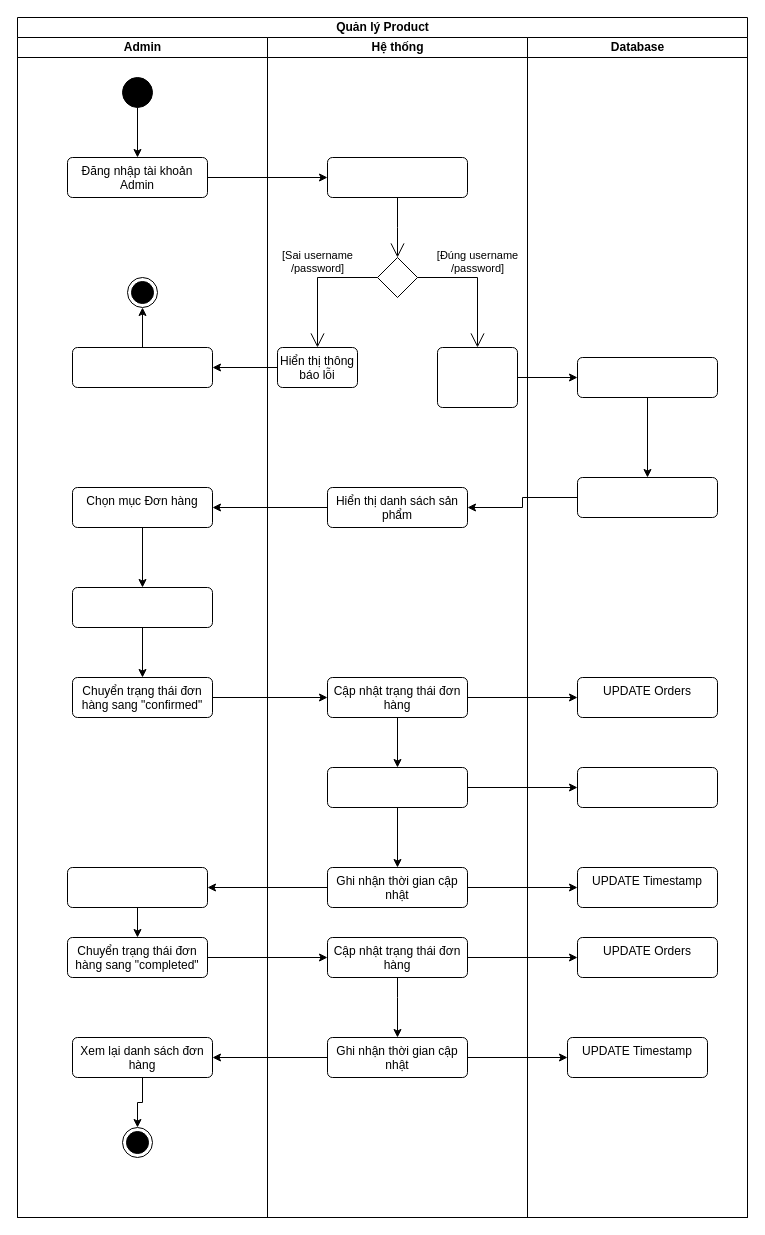
Some shapes in this 765 by 1235 pixel diagram are drawn without their labels. The centre of each missing label's shape, as x and y in pixels:
"Chuyển qua giao diện Dashboard" goes at (477,377).
"Cập nhật tồn kho" goes at (397,787).
"Gửi hàng cho bên shipping service" goes at (137,887).
"Kiểm tra thông tin đơn hàng" goes at (142,607).
"Kiểm tra tài khoản" goes at (397,177).
"Truy vấn Product" goes at (647,377).
"Trả kết quả" goes at (647,497).
"UPDATE Inventory" goes at (647,787).
"Đăng nhập lại!" goes at (142,367).
